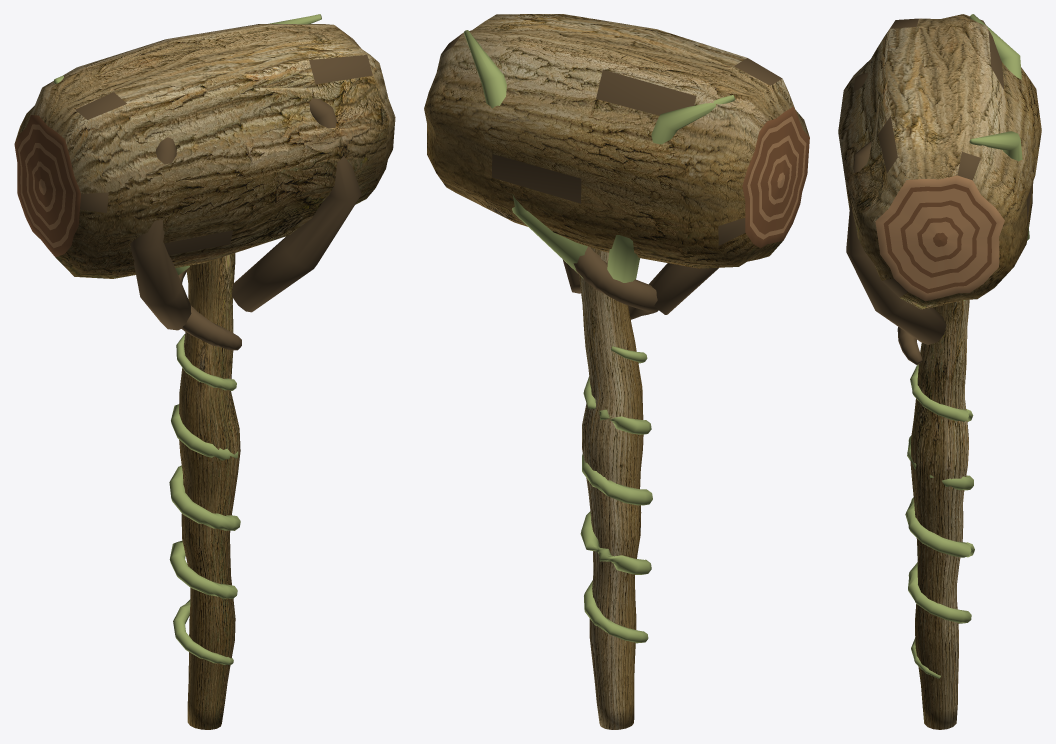
The model's file is heartwood_maul.glb.
3 views of the same model, side by side, from view 1: azimuth 30°, elevation 25°; view 2: azimuth 150°, elevation 25°; view 3: azimuth 270°, elevation 25° (orthographic). The views are drawn at different scales.
Parts seen in each view (by area): view 1: HeartwoodMaul; view 2: HeartwoodMaul; view 3: HeartwoodMaul.
Boxes of the visible parts, left/top/right/bottom form: HeartwoodMaul: left=14, top=14, right=395, bottom=729; HeartwoodMaul: left=424, top=14, right=809, bottom=729; HeartwoodMaul: left=838, top=14, right=1041, bottom=729.
Size of the model in its own units: 0.7879 by 1.56 by 0.4392.
Materials: 5 (1 with a texture image).
